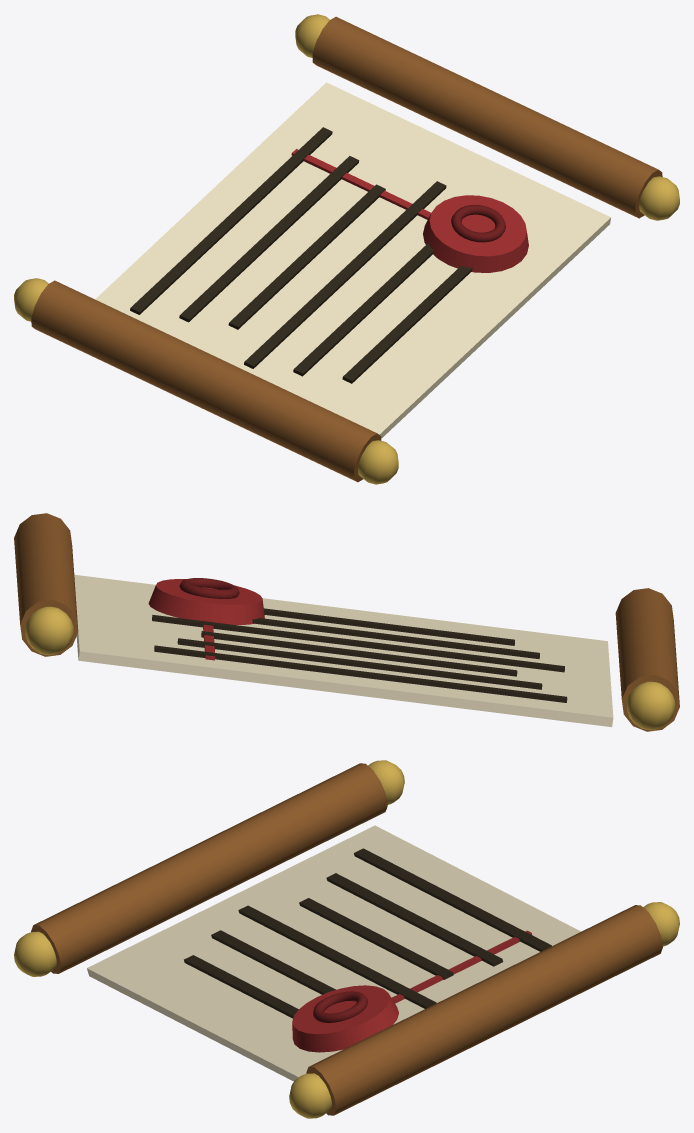
Rendered from charter.glb.
3 renders of one model, top to bottom at view 1: azimuth 30°, elevation 25°; view 2: azimuth 150°, elevation 25°; view 3: azimuth 270°, elevation 25°, orthographic. The views are drawn at different scales.
Size of the model in its own units: 1.62 by 0.4669 by 1.45.
